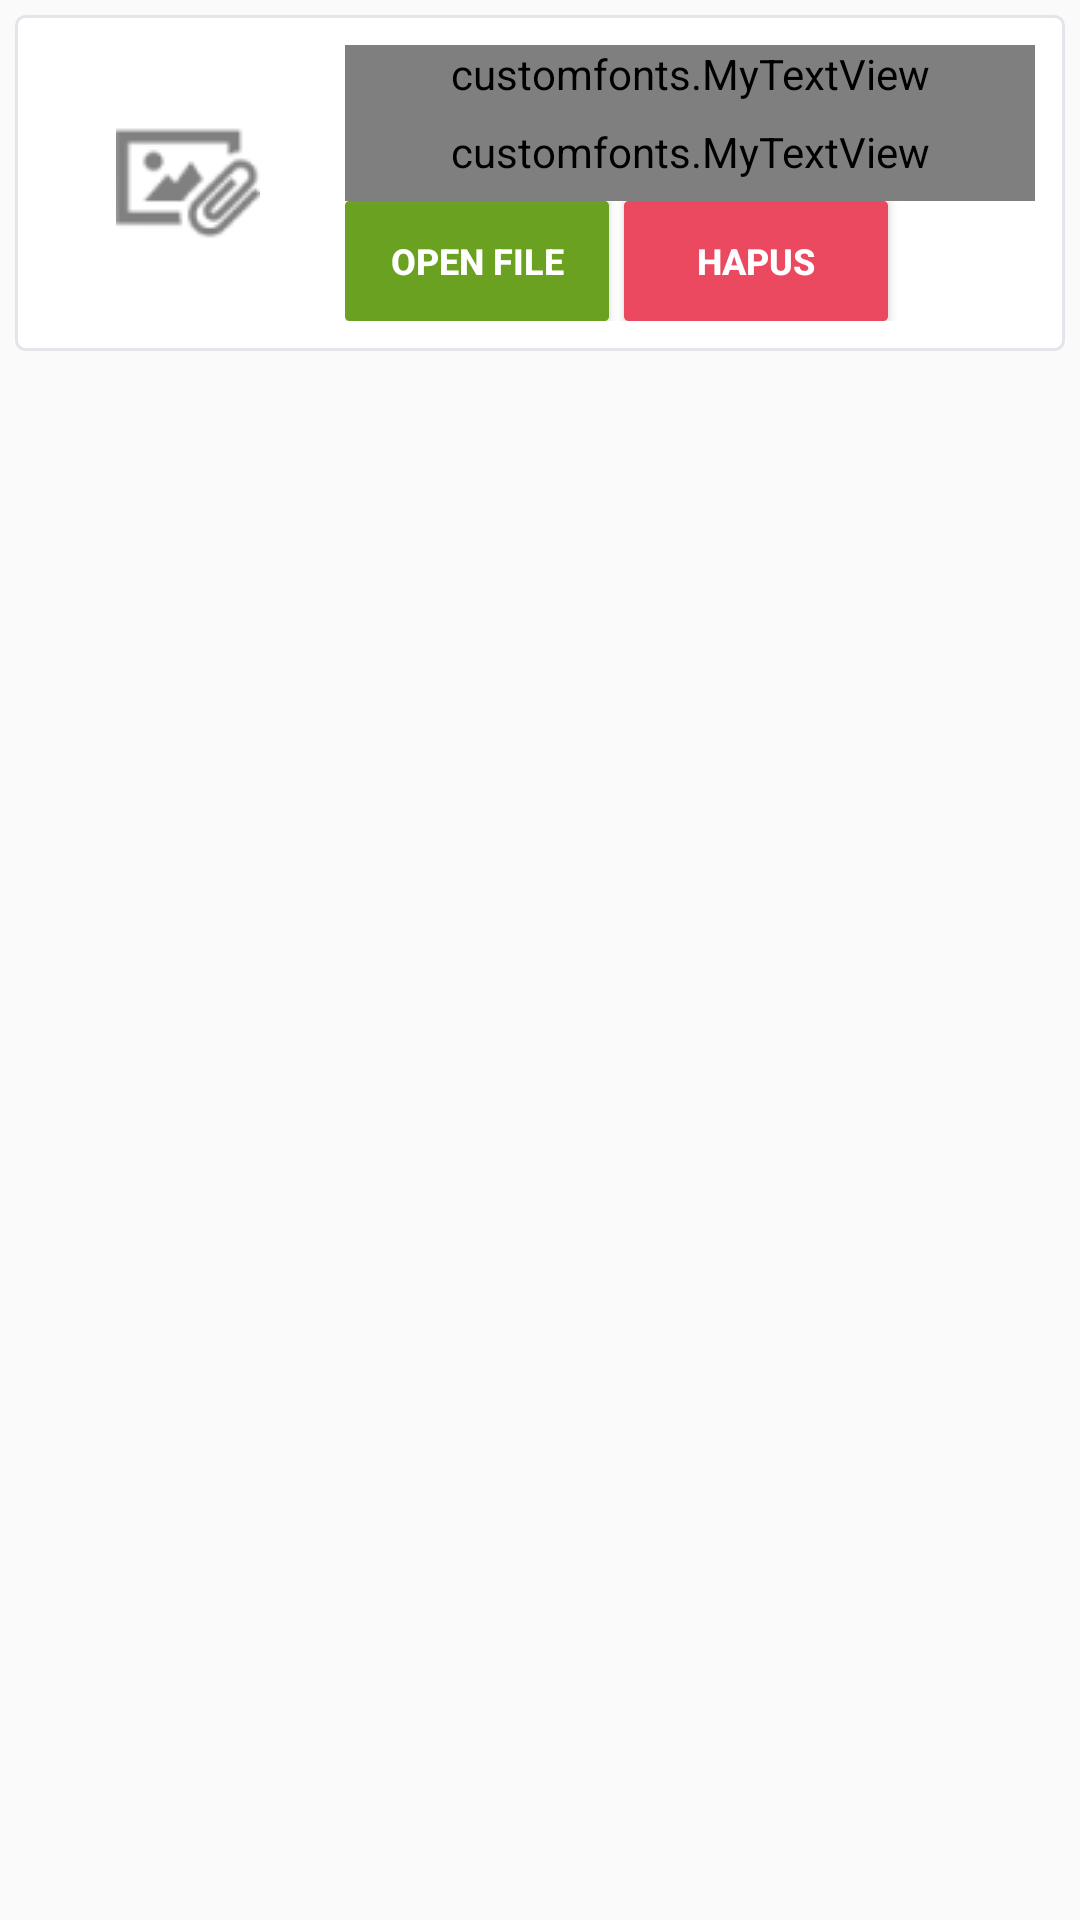

Screen size 1080w x 1920h. Icon name, then its center in pixels as point (x, y):
attachment: point (188, 183)
